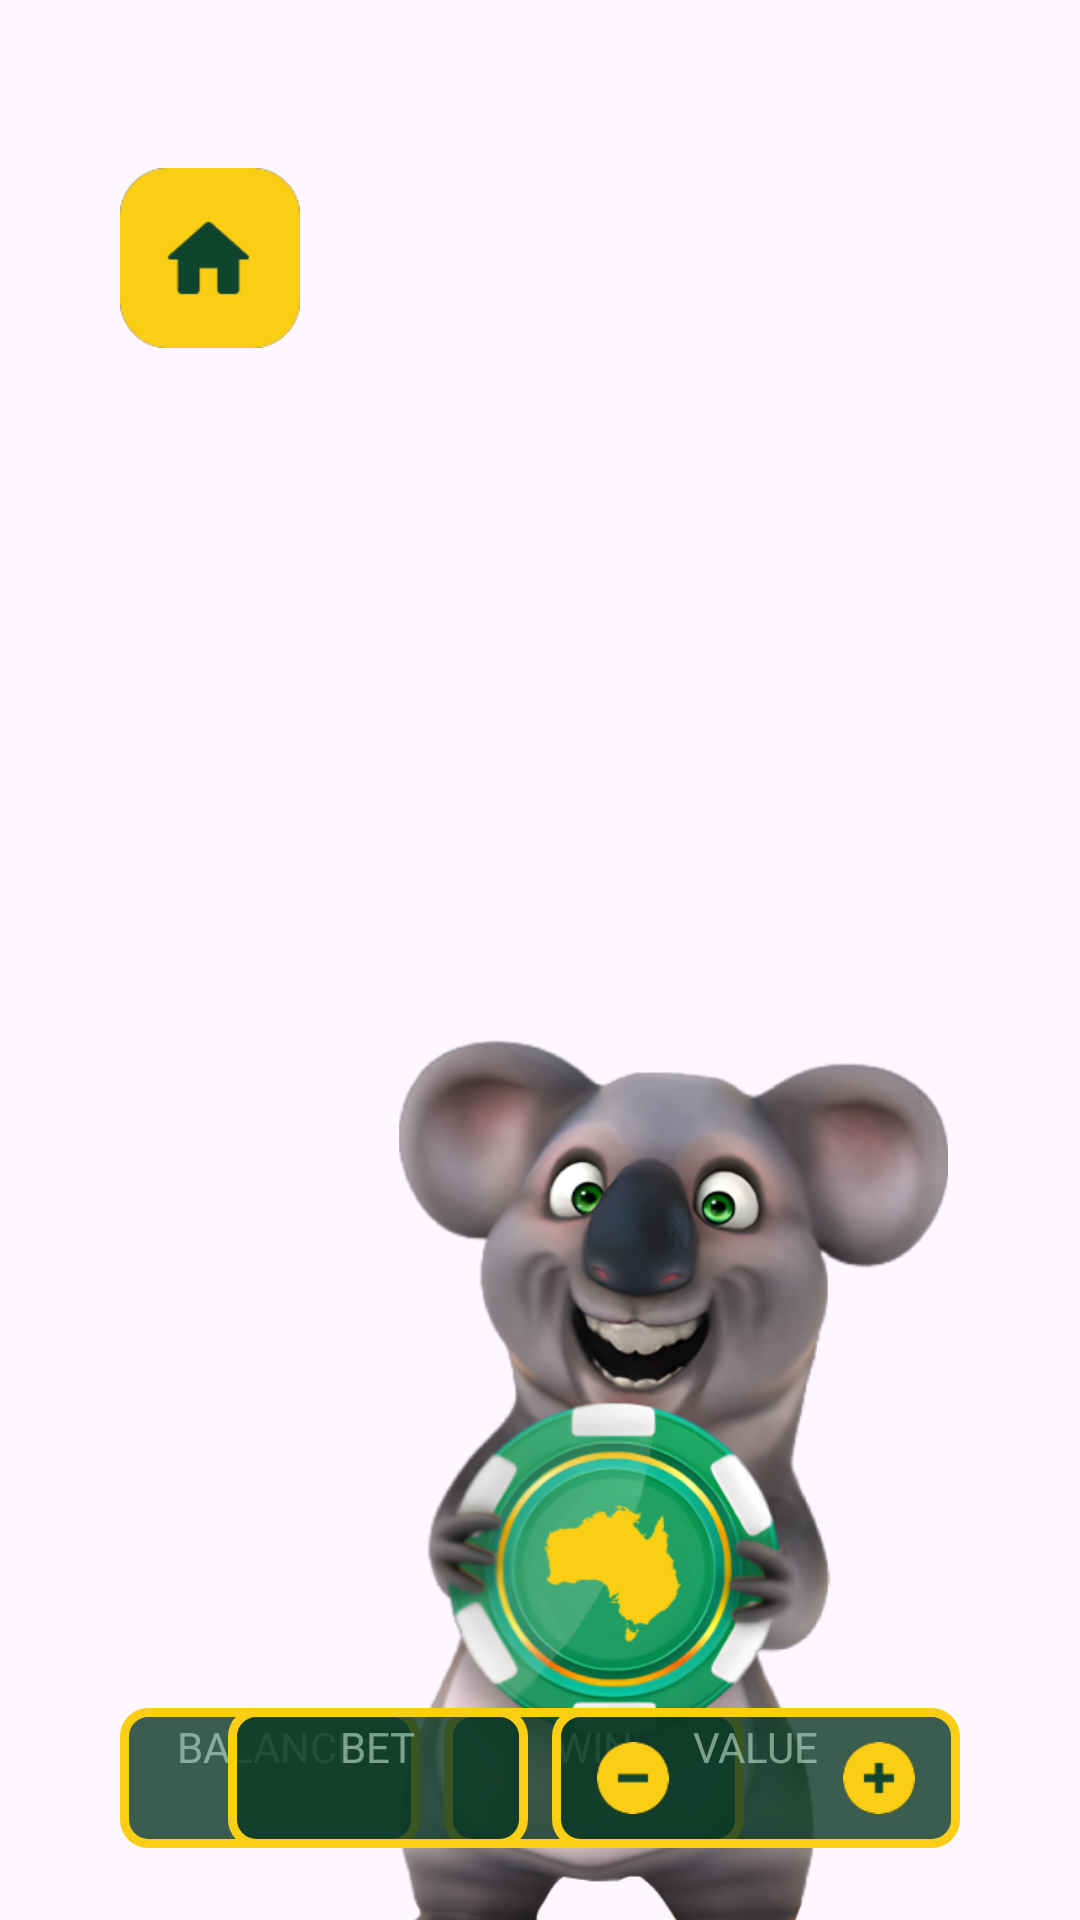

Icon bounding boxes for this 1080x1920 phone screenshot, format (x1, y1, x2, y2):
Go home: (120, 168, 300, 348)
